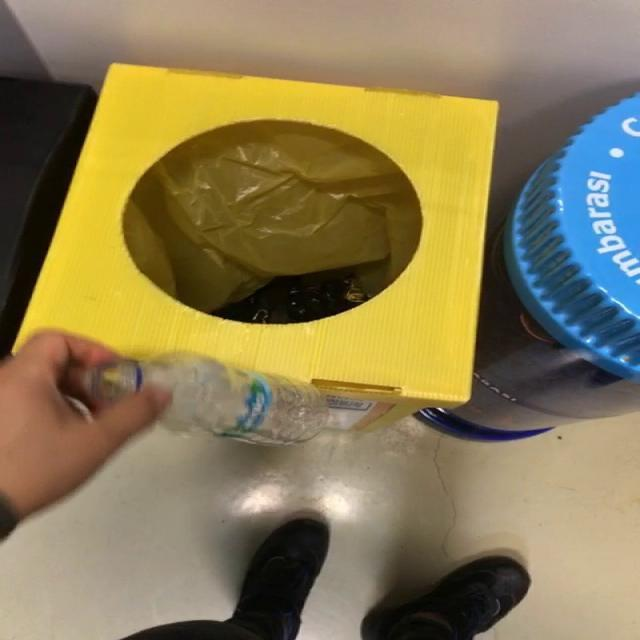Plastic: (71, 353, 333, 446)
